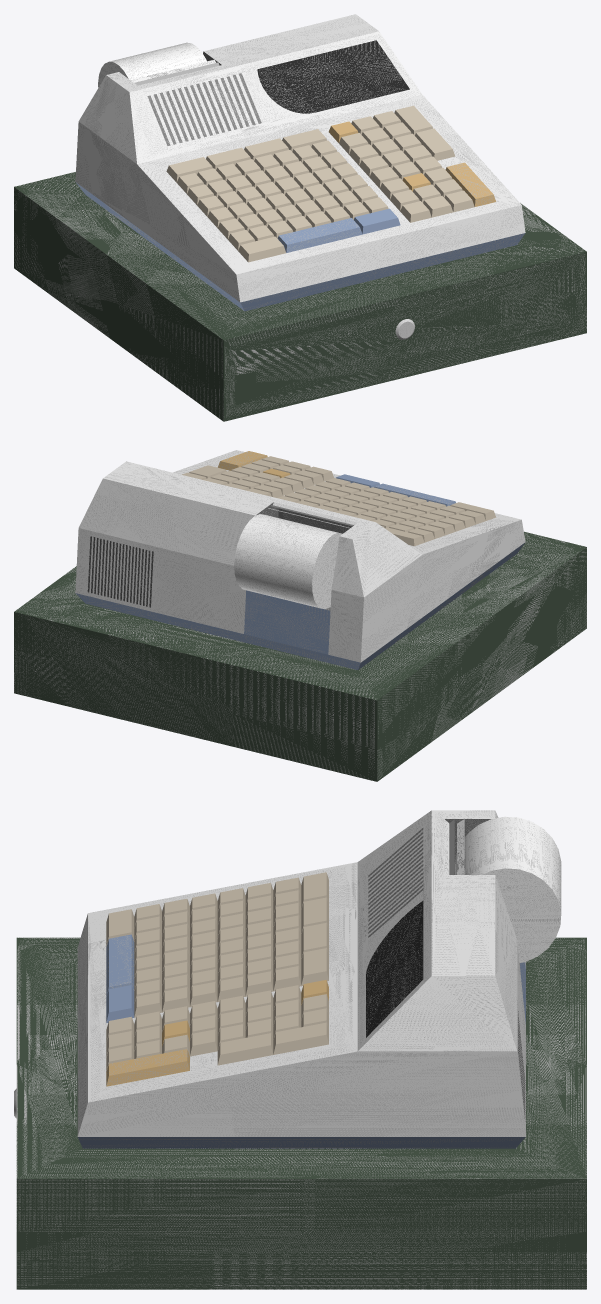
Rendered from register.dae.
The picture shows the model from 3 angles, top to bottom: view 1: azimuth 30°, elevation 25°; view 2: azimuth 150°, elevation 25°; view 3: azimuth 270°, elevation 25°; orthographic projection. The views are drawn at different scales.
Visible parts, largest first — view 1: group_0 (×7), _2h (×6), group_1, _2v (×2); view 2: group_0 (×6), group_1; view 3: group_0 (×6), group_1, _2h (×6), _2v (×2), _1b.
Boxes of the visible parts, x1,y1,x2,y2 form: group_0 (×7): [14, 14, 586, 421]; _2h (×6): [166, 129, 400, 262]; group_1: [98, 42, 206, 87]; _2v (×2): [394, 105, 455, 160]; group_0 (×6): [14, 450, 586, 781]; group_1: [234, 514, 342, 609]; group_0 (×6): [16, 810, 586, 1289]; group_1: [455, 816, 561, 962]; _2h (×6): [106, 872, 328, 1022]; _2v (×2): [217, 1022, 328, 1065]; _1b: [190, 1029, 217, 1056].
Size of the model in its own units: 14 by 14.06 by 7.62.
